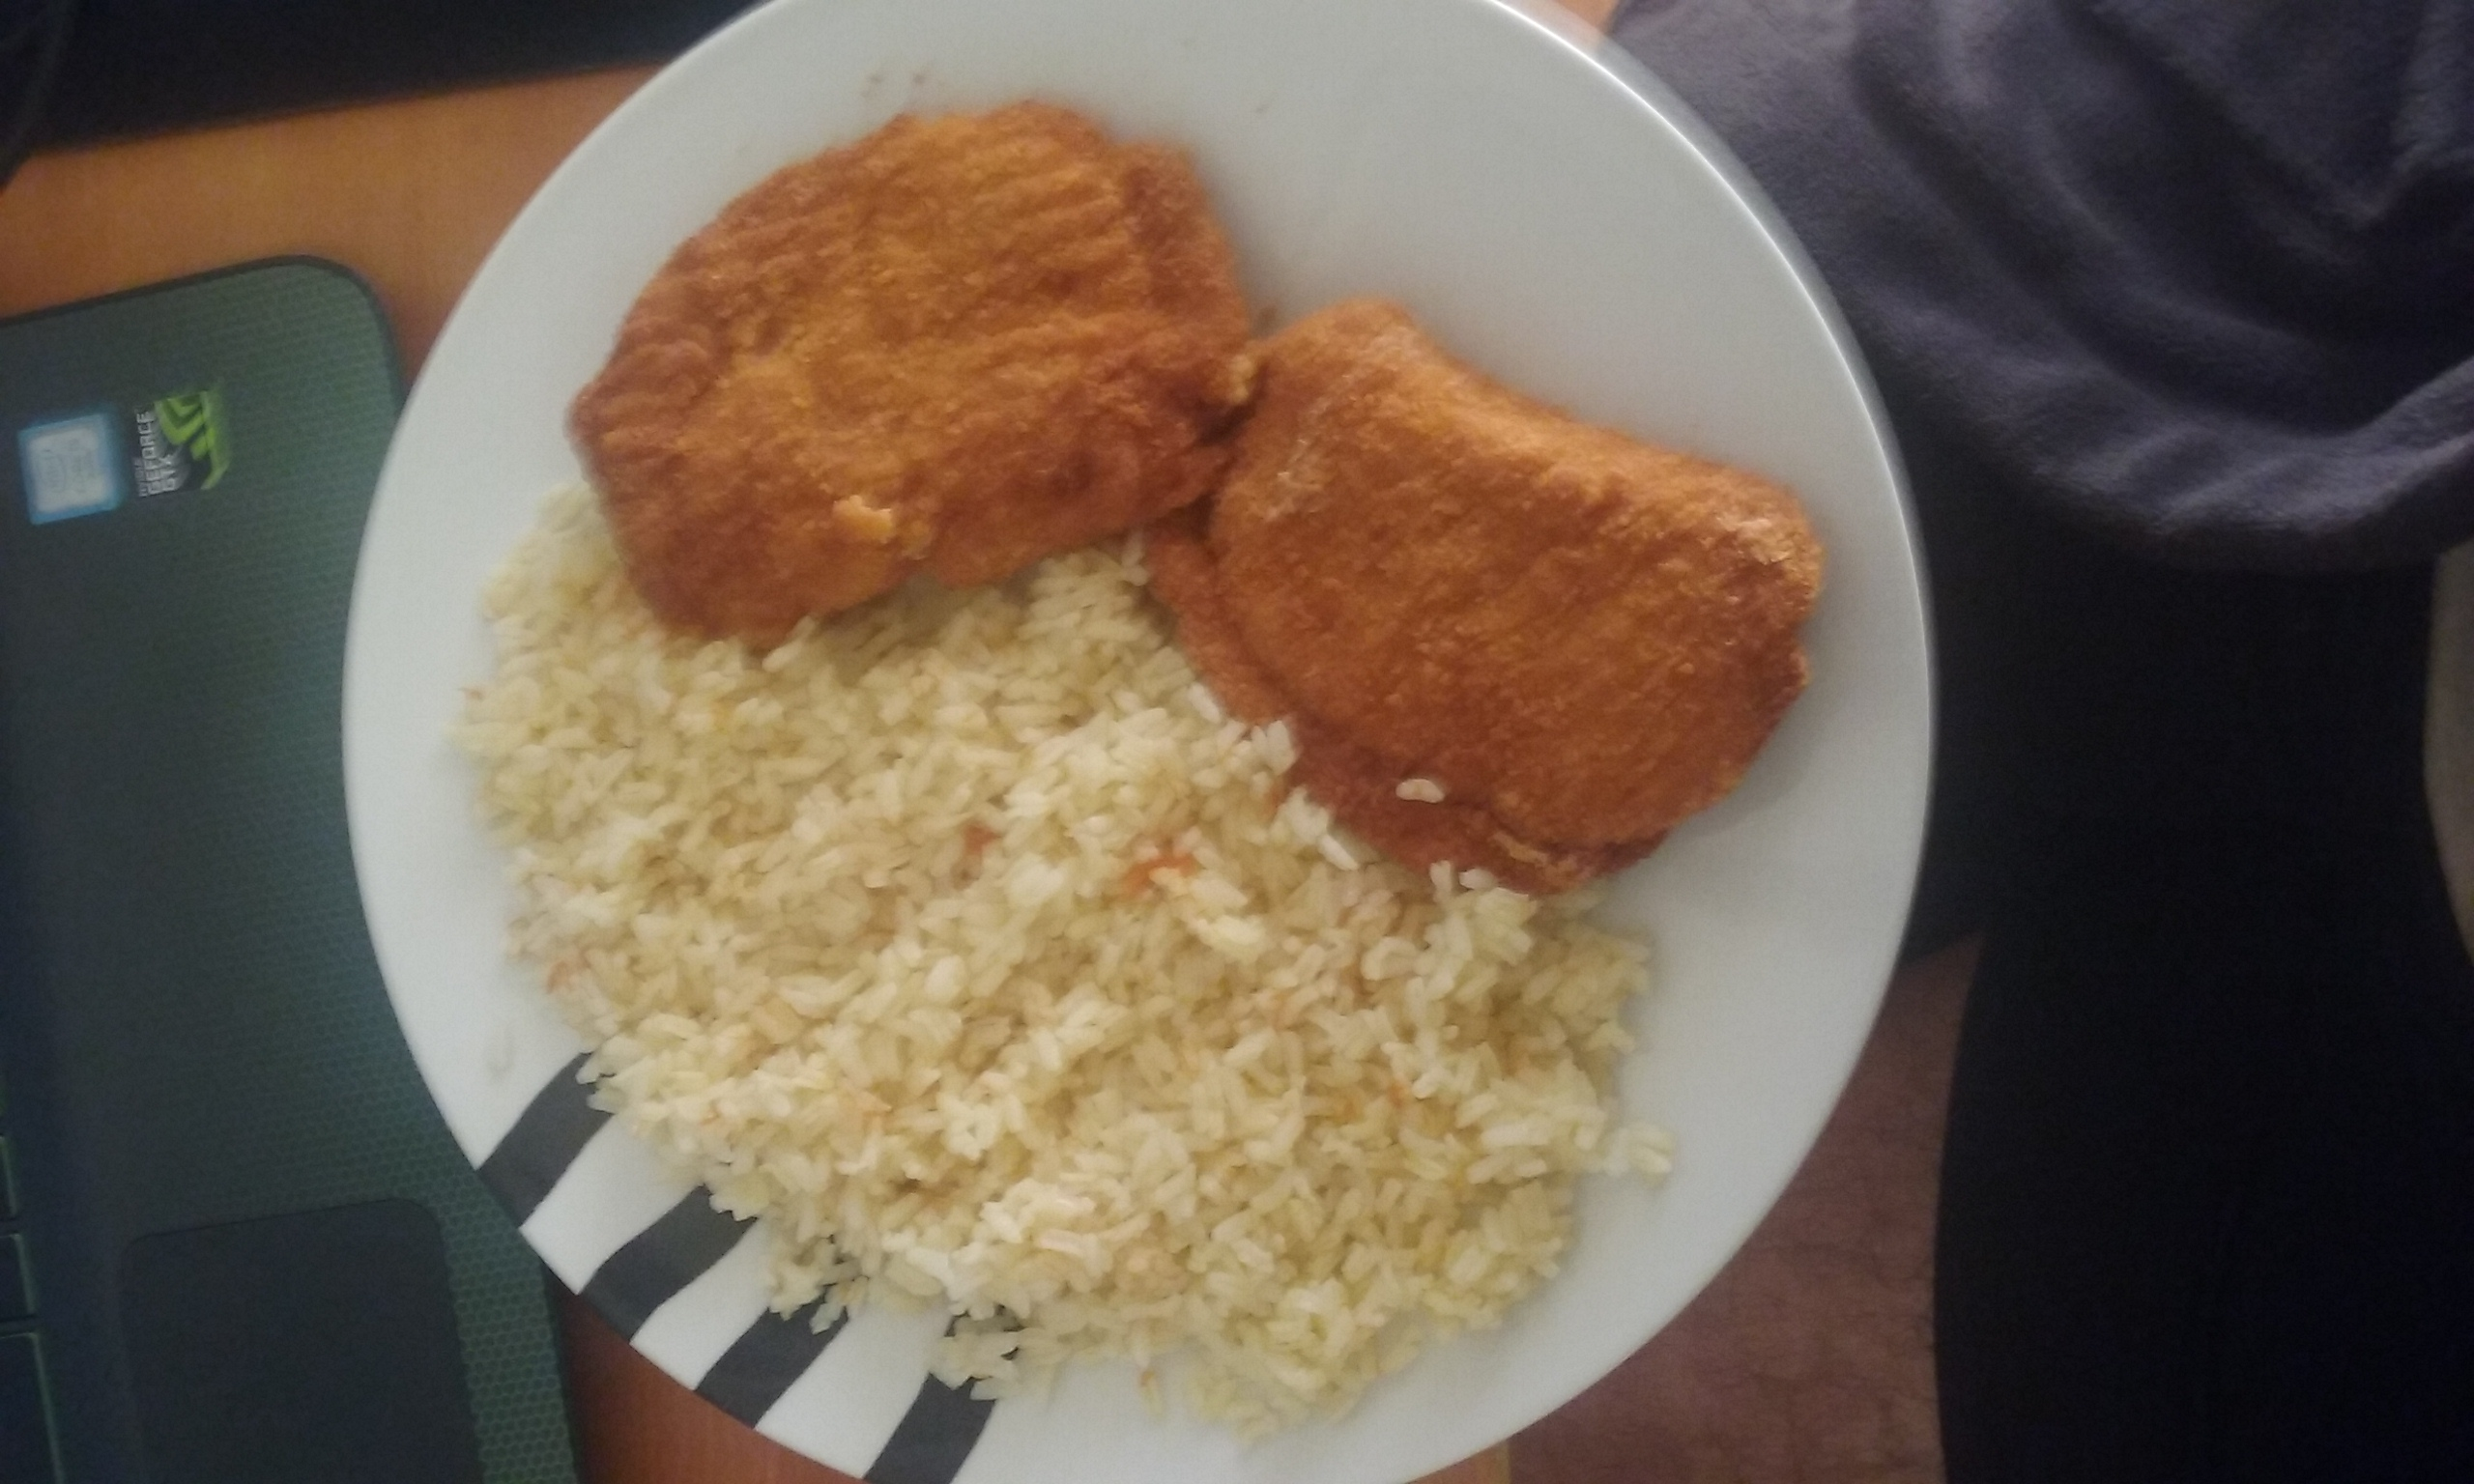81-100: (355, 7, 1935, 1484)
